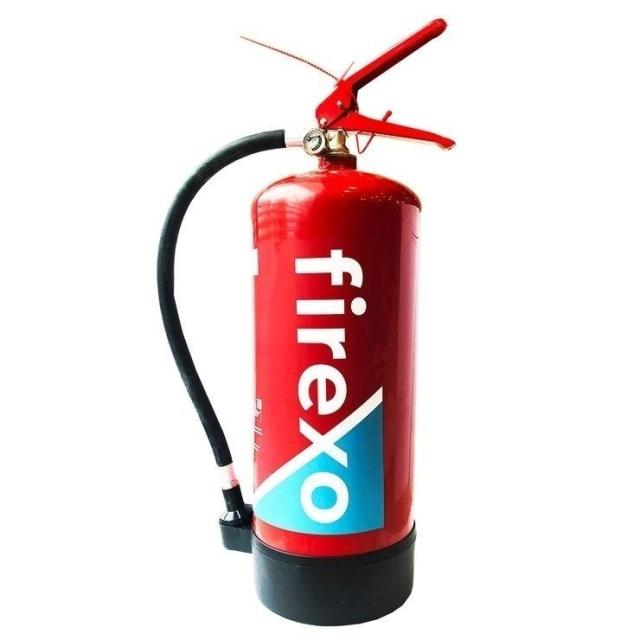fire_extinguisher: (151, 13, 462, 630)
